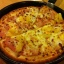pineapple: (36, 26, 53, 40), (15, 38, 27, 51), (21, 11, 33, 23), (51, 12, 62, 22)
pizza: (1, 6, 64, 61)
